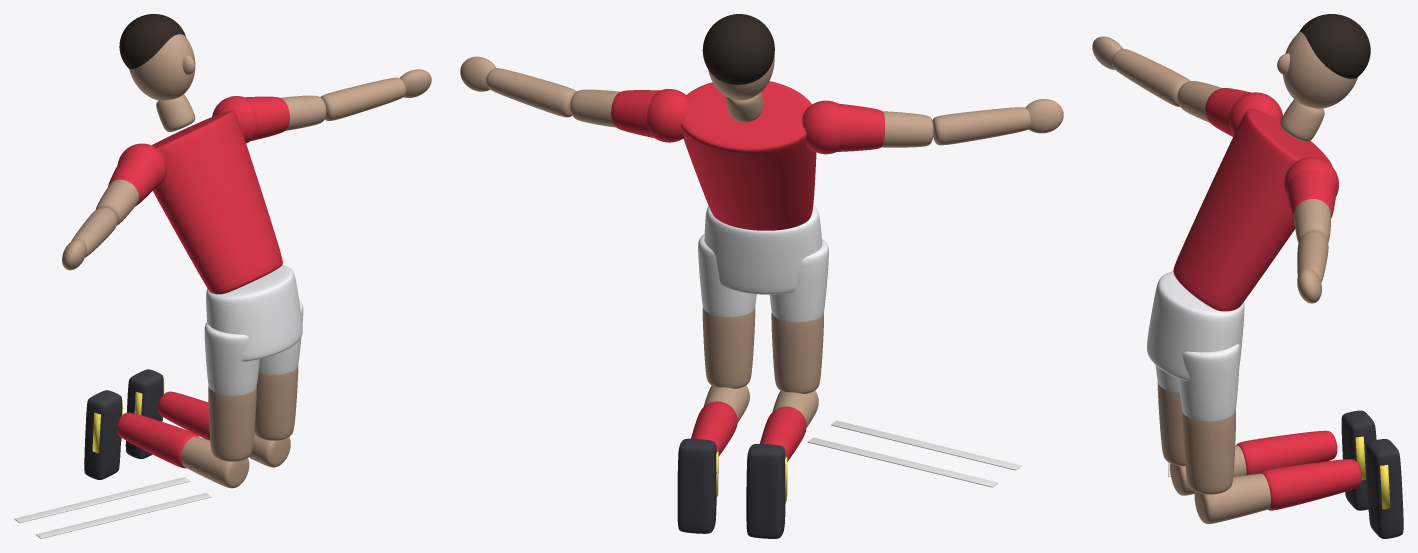
Rendered from reward-celeb-knee-slide.glb.
3 renders of one model, left to right at view 1: azimuth 30°, elevation 25°; view 2: azimuth 150°, elevation 25°; view 3: azimuth 270°, elevation 25°, orthographic. The views are drawn at different scales.
Parts seen in each view (by area): view 1: Cone.001, Cone, Cone.014, Cone.013, Cube.002, Cone.007, Sphere, Cone.016, Sphere.001, Cone.005, Cone.015, Cone.009 (+15 smaller); view 2: Cone.001, Cone, Sphere.001, Cube, Cube.002, Cone.007, Cone.014, Cone.012, Cone.013, Cone.005, Cone.006, Cone.010 (+15 smaller); view 3: Cone.001, Cone, Cone.006, Cone.007, Cone.009, Sphere.001, Sphere, Cone.016, Cube, Cone.008, Cone.012, Cube.002 (+14 smaller).
Part boxes in pixels (<box>): Cone.001: <box>152,110,282,294</box>; Cone: <box>206,265,302,361</box>; Cone.014: <box>208,386,256,461</box>; Cone.013: <box>204,322,259,395</box>; Cube.002: <box>84,390,122,479</box>; Cone.007: <box>254,365,298,440</box>; Sphere: <box>129,34,195,100</box>; Cone.016: <box>116,412,199,468</box>; Sphere.001: <box>119,14,185,69</box>; Cone.005: <box>320,77,406,120</box>; Cone.015: <box>181,436,249,488</box>; Cone.009: <box>157,391,210,440</box>; Cone.001: <box>681,81,816,230</box>; Cone: <box>704,205,822,294</box>; Sphere.001: <box>702,14,774,84</box>; Cube: <box>677,438,716,533</box>; Cube.002: <box>746,444,785,538</box>; Cone.007: <box>702,307,755,388</box>; Cone.014: <box>771,313,823,393</box>; Cone.012: <box>932,107,1031,145</box>; Cone.013: <box>769,239,828,322</box>; Cone.005: <box>486,68,576,117</box>; Cone.006: <box>698,234,756,316</box>; Cone.010: <box>837,103,884,151</box>; Cone.001: <box>1173,108,1332,311</box>; Cone: <box>1146,271,1244,380</box>; Cone.006: <box>1178,344,1239,421</box>; Cone.007: <box>1182,410,1235,494</box>; Cone.009: <box>1260,459,1361,510</box>; Sphere.001: <box>1299,14,1370,78</box>; Sphere: <box>1283,32,1357,108</box>; Cone.016: <box>1236,430,1337,475</box>; Cube: <box>1366,439,1403,538</box>; Cone.008: <box>1194,473,1270,523</box>; Cone.012: <box>1111,48,1190,106</box>; Cube.002: <box>1341,410,1376,510</box>.
Bounding box in the file's own units: 2.97 × 2.82 × 1.57.
